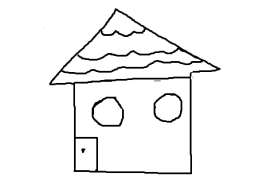door: (70, 131, 102, 178)
open_window: (91, 96, 125, 127), (154, 93, 182, 123)
roof: (49, 7, 220, 85)
wall: (71, 74, 195, 178)
